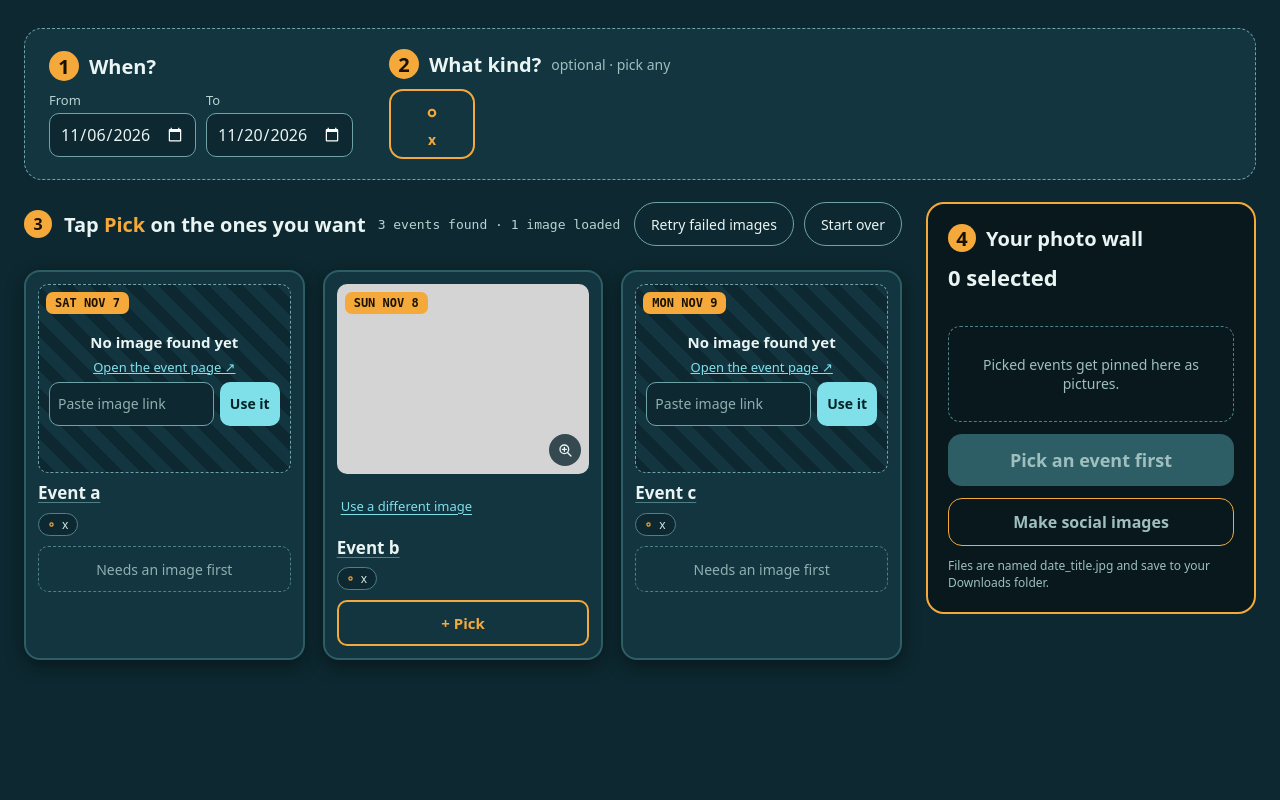
Test: EventsApp: pasting an image link › a refused link leaves the card exactly as before and says why
The image size is (1280, 800).
Expected: the text "3 events found · 1 image loaded" is shown, [378,216,620,232]
Type "https://example.com/page" into the field named "Paste an image link for Event a".
click(131, 404); type("https://example.com/page")  # box [49,382,214,426]
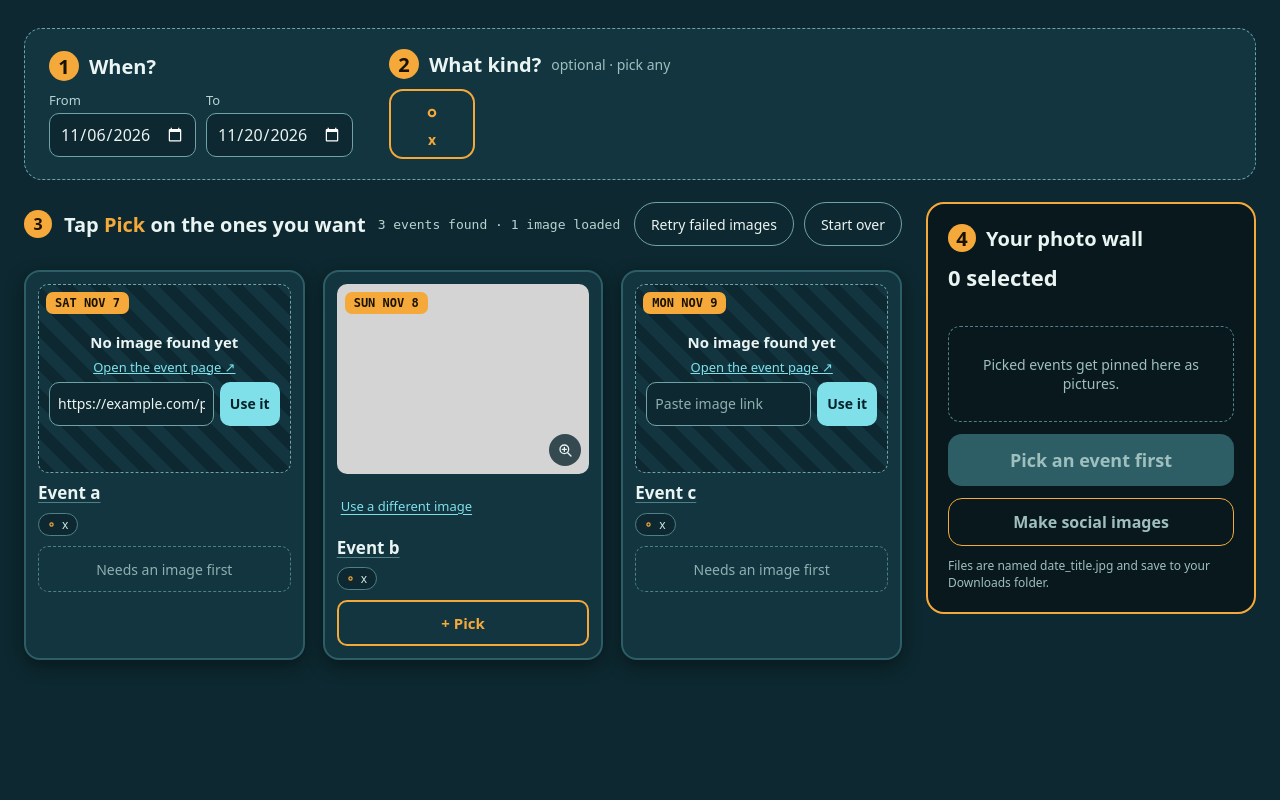
Click the button "Use it" below "SAT NOV 7".
click(250, 404)  # box [220,382,280,426]
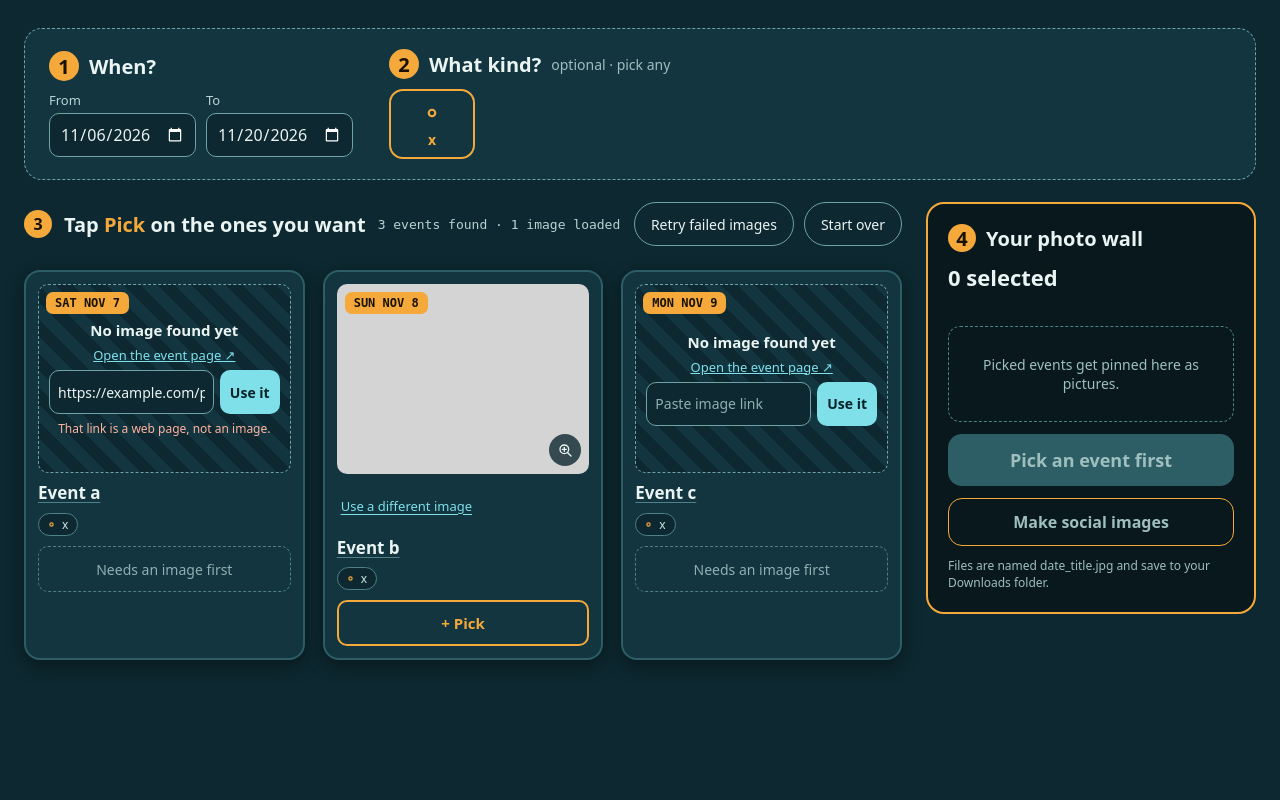
Expected: the text "3 events found · 1 image loaded" is shown, [378,216,620,232]
Result: the message reads "That link is a web page, not an image." at [58,420,270,437]
